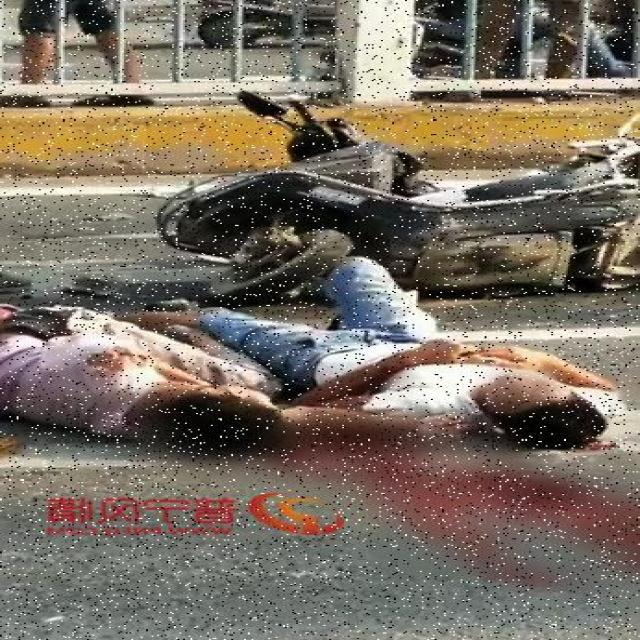fall: (236, 270, 636, 450)
